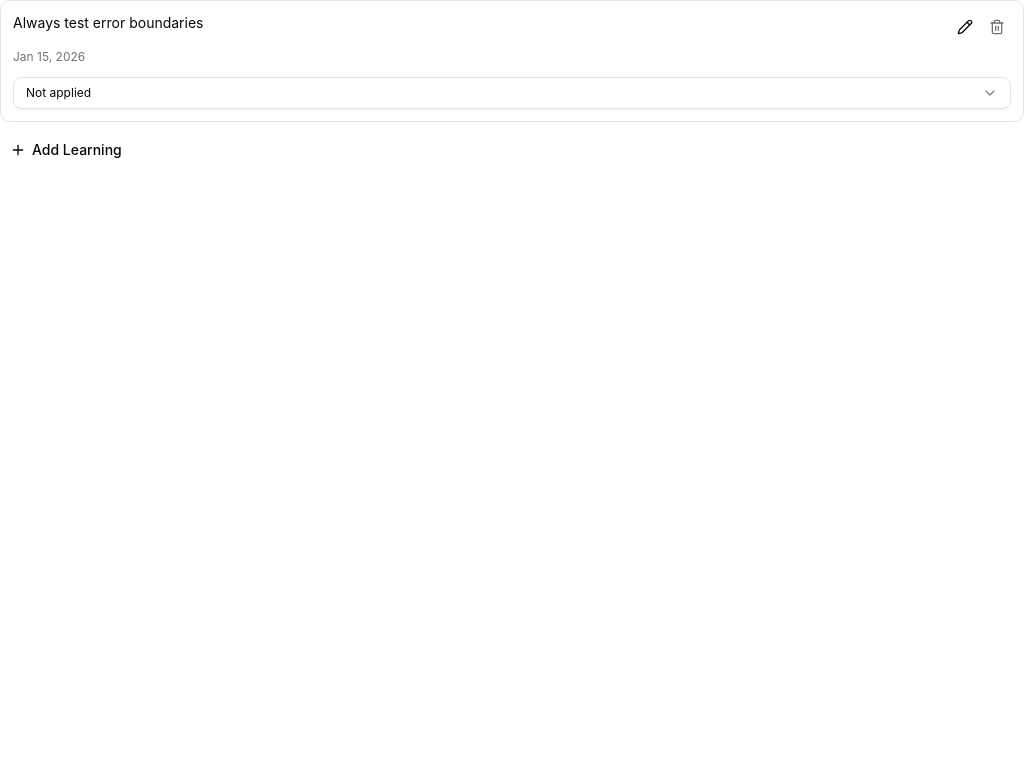
Test: LearningList › deleting a learning › shows confirmation dialog before deleting
This screenshot has width=1024, height=768.
Click the 2nd button at (997, 27), box [983,13,1011,41]
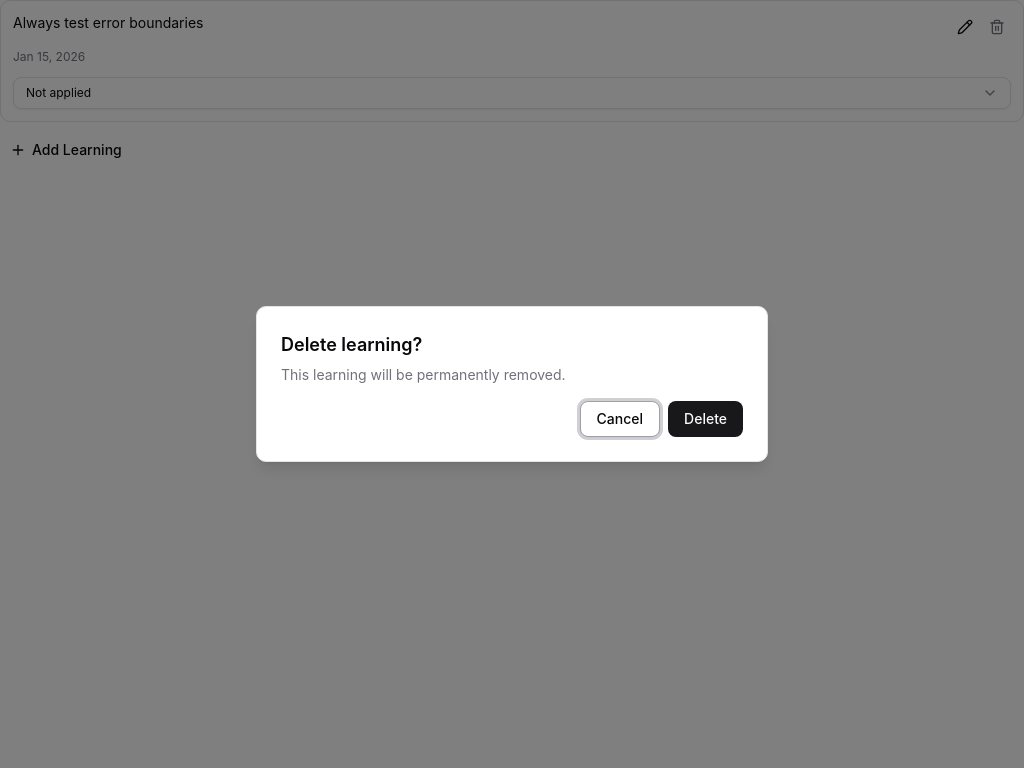
Check: the heading "Delete learning?" is shown, box [281,331,422,359]
Check: the text "This learning will be permanently removed." is shown, box [281,365,566,385]
